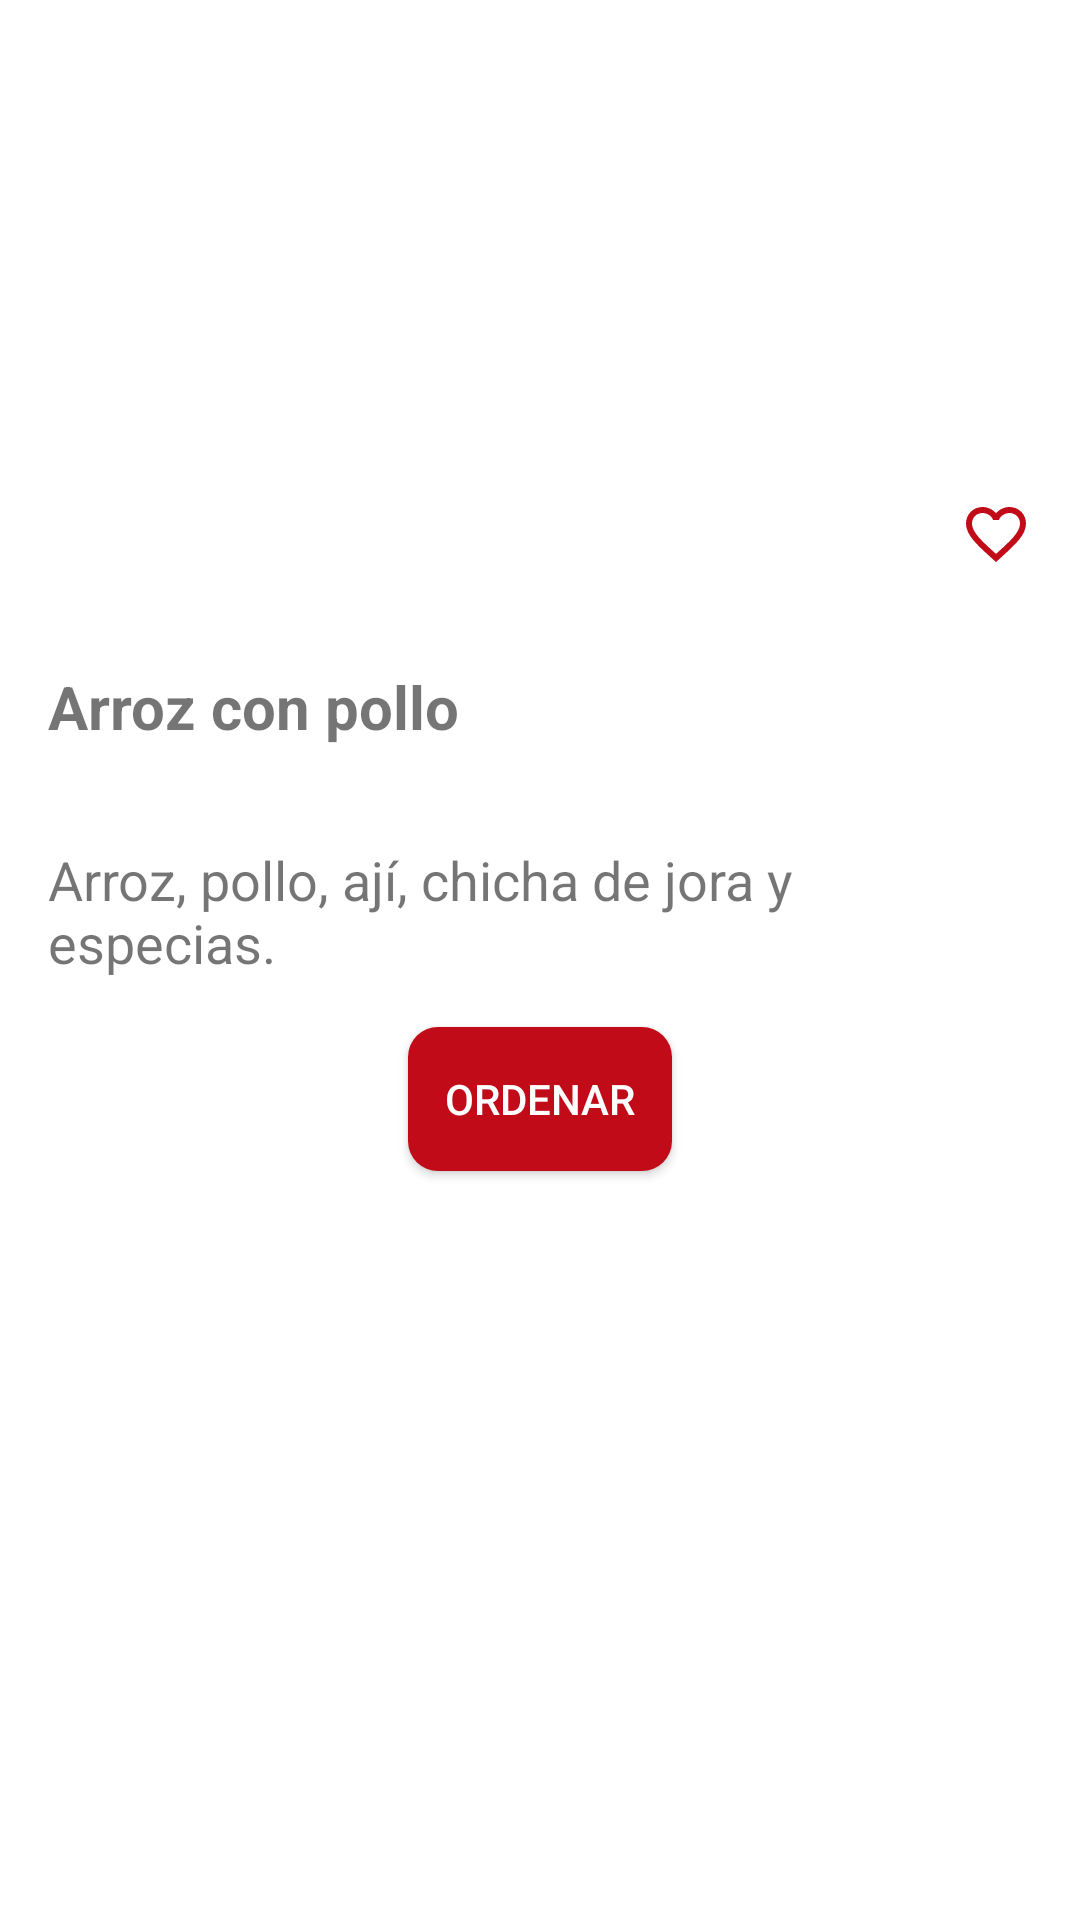

Icons on this 1080*1920 Android screen, each with the point to tap as (x,y):
favorite border: (996,534)
